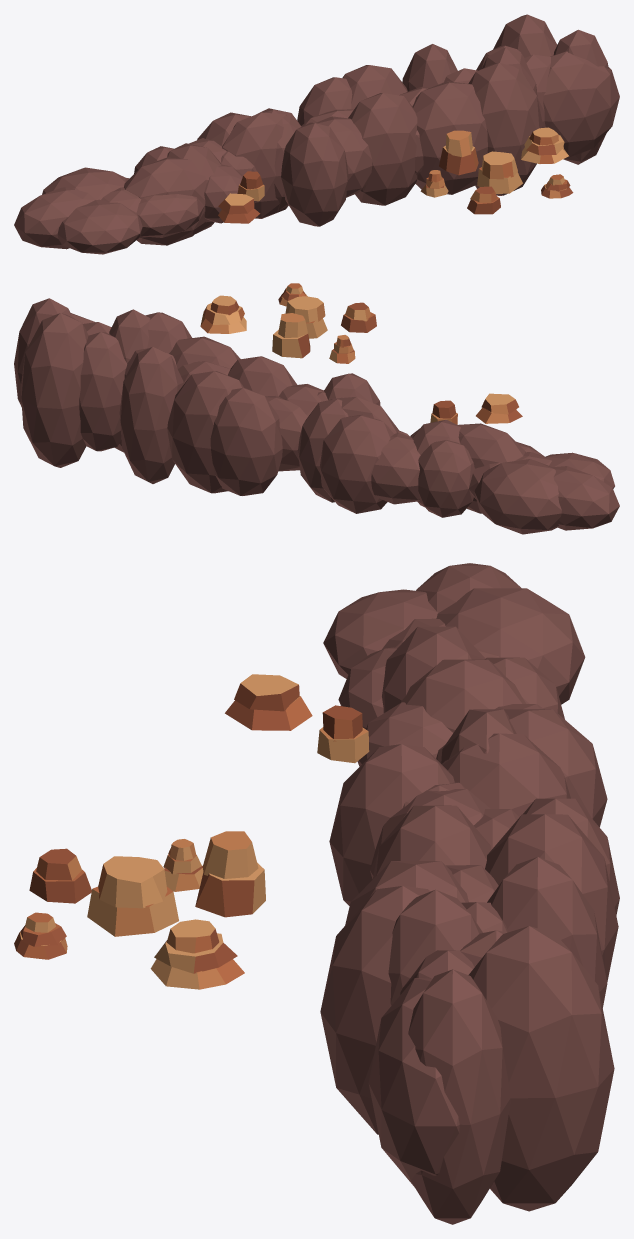
The model's file is backdrop.glb.
The picture shows the model from 3 angles, top to bottom: view 1: azimuth 30°, elevation 25°; view 2: azimuth 150°, elevation 25°; view 3: azimuth 270°, elevation 25°; orthographic projection. The views are drawn at different scales.
Parts seen in each view (by area): view 1: Mountains, Mesas; view 2: Mountains, Mesas; view 3: Mountains, Mesas.
Boxes of the visible parts, <box> form: Mountains: <box>14,14,619,254</box>; Mesas: <box>218,127,573,223</box>; Mountains: <box>14,298,619,534</box>; Mesas: <box>200,283,522,424</box>; Mountains: <box>320,563,619,1224</box>; Mesas: <box>14,674,369,989</box>.
Size of the model in its own units: 1039 by 256 by 492.
